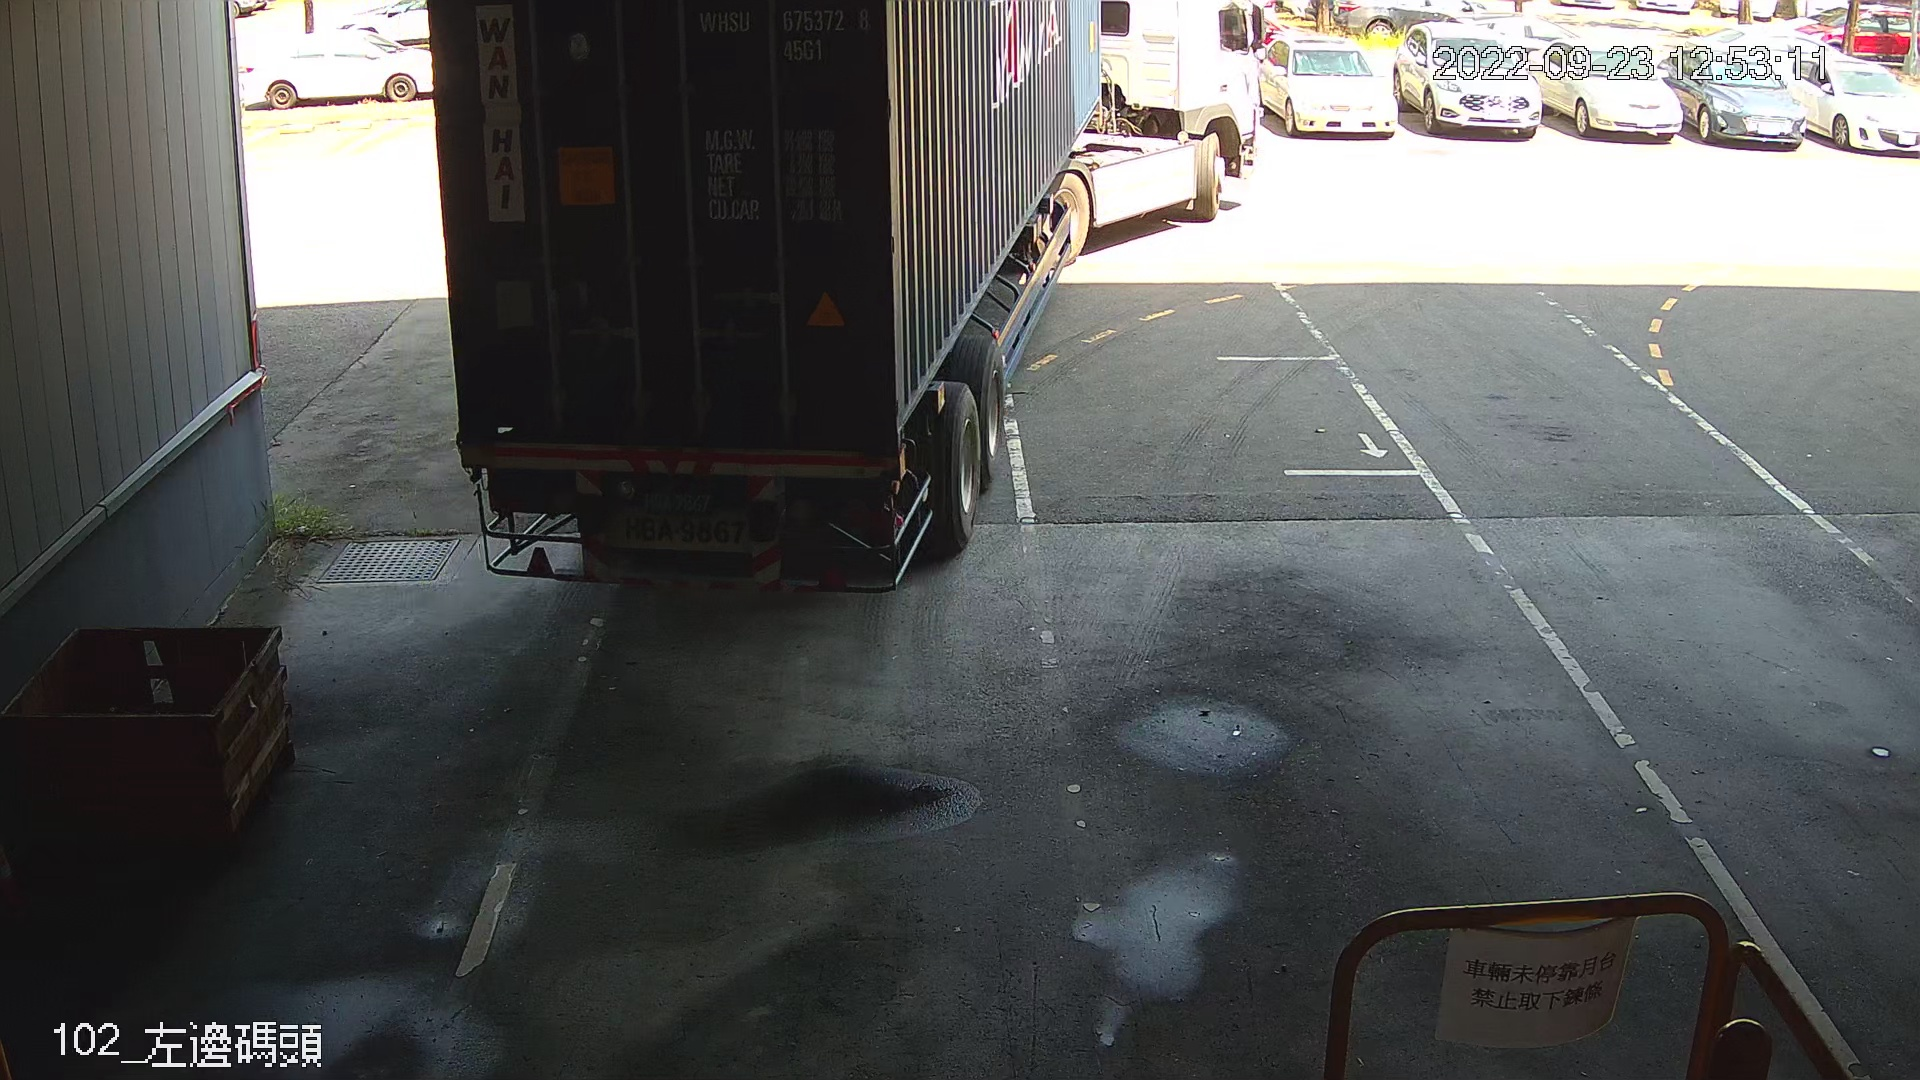container: (692, 3, 876, 69)
